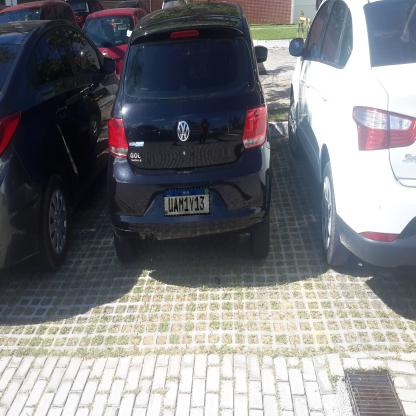PlacaM: (163, 186, 210, 217)
